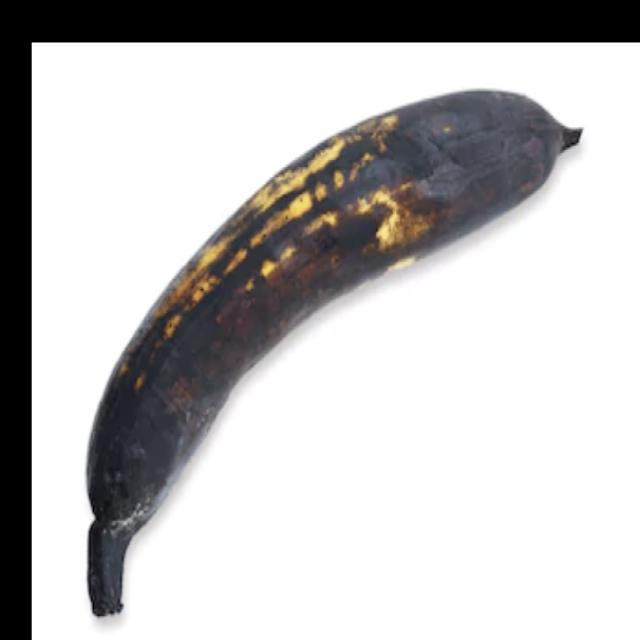Rotten: (40, 48, 600, 633)
